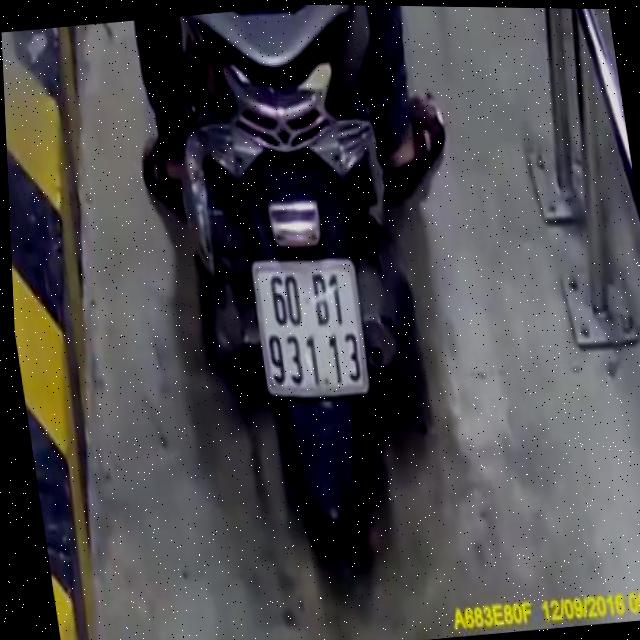motorcycle: (146, 2, 463, 570)
plate: (243, 246, 379, 405)
